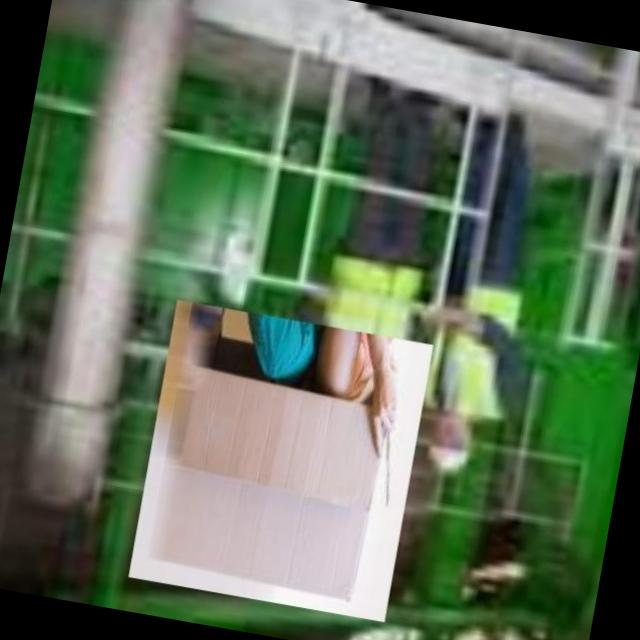box: (123, 294, 439, 626)
